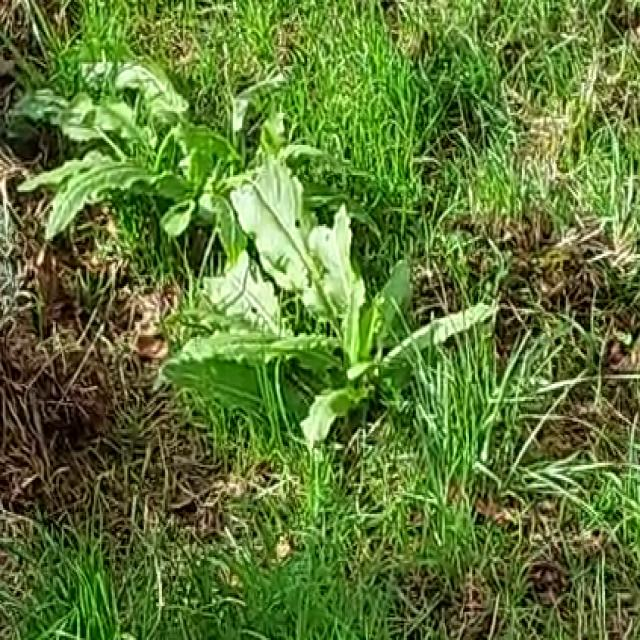organic waste: (183, 163, 502, 488), (33, 36, 320, 297)
